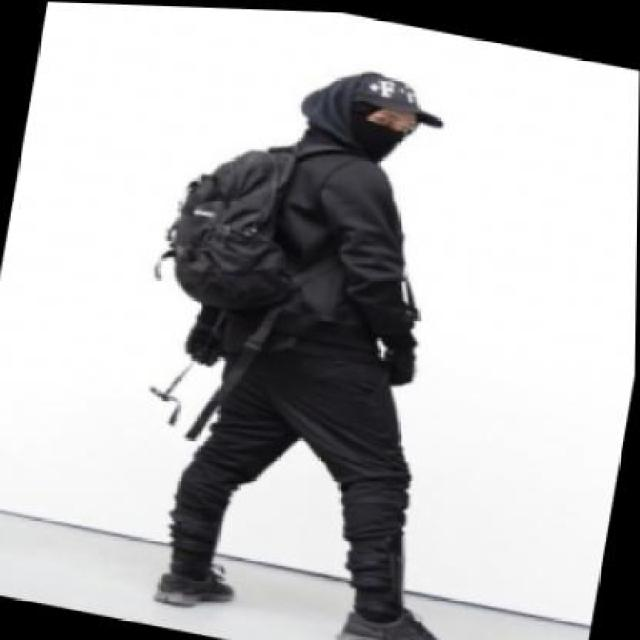hat: (347, 56, 461, 127)
